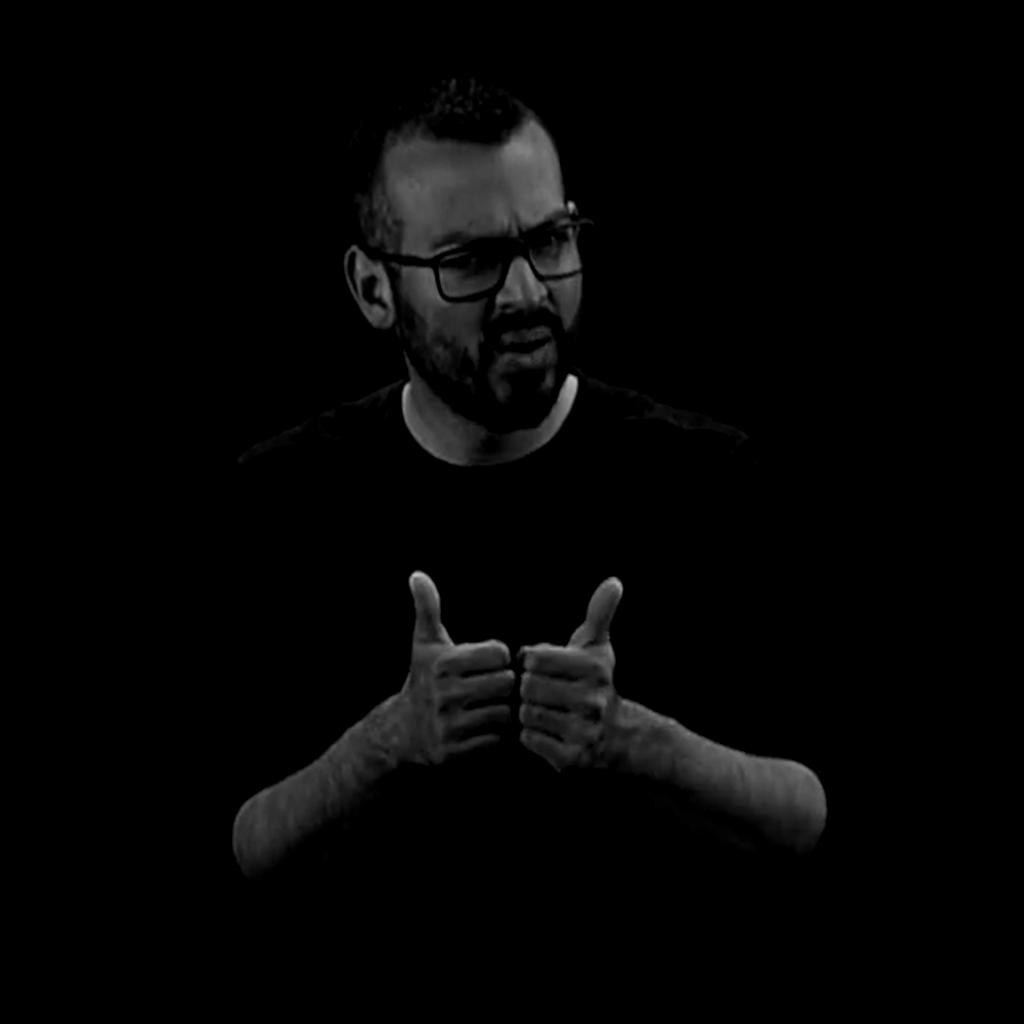how: (402, 570, 622, 776)
